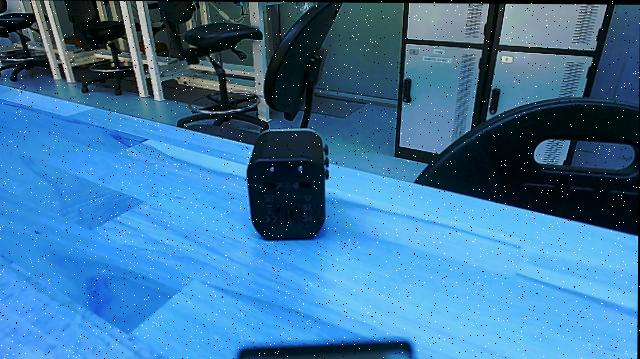adapter: (243, 124, 335, 247)
